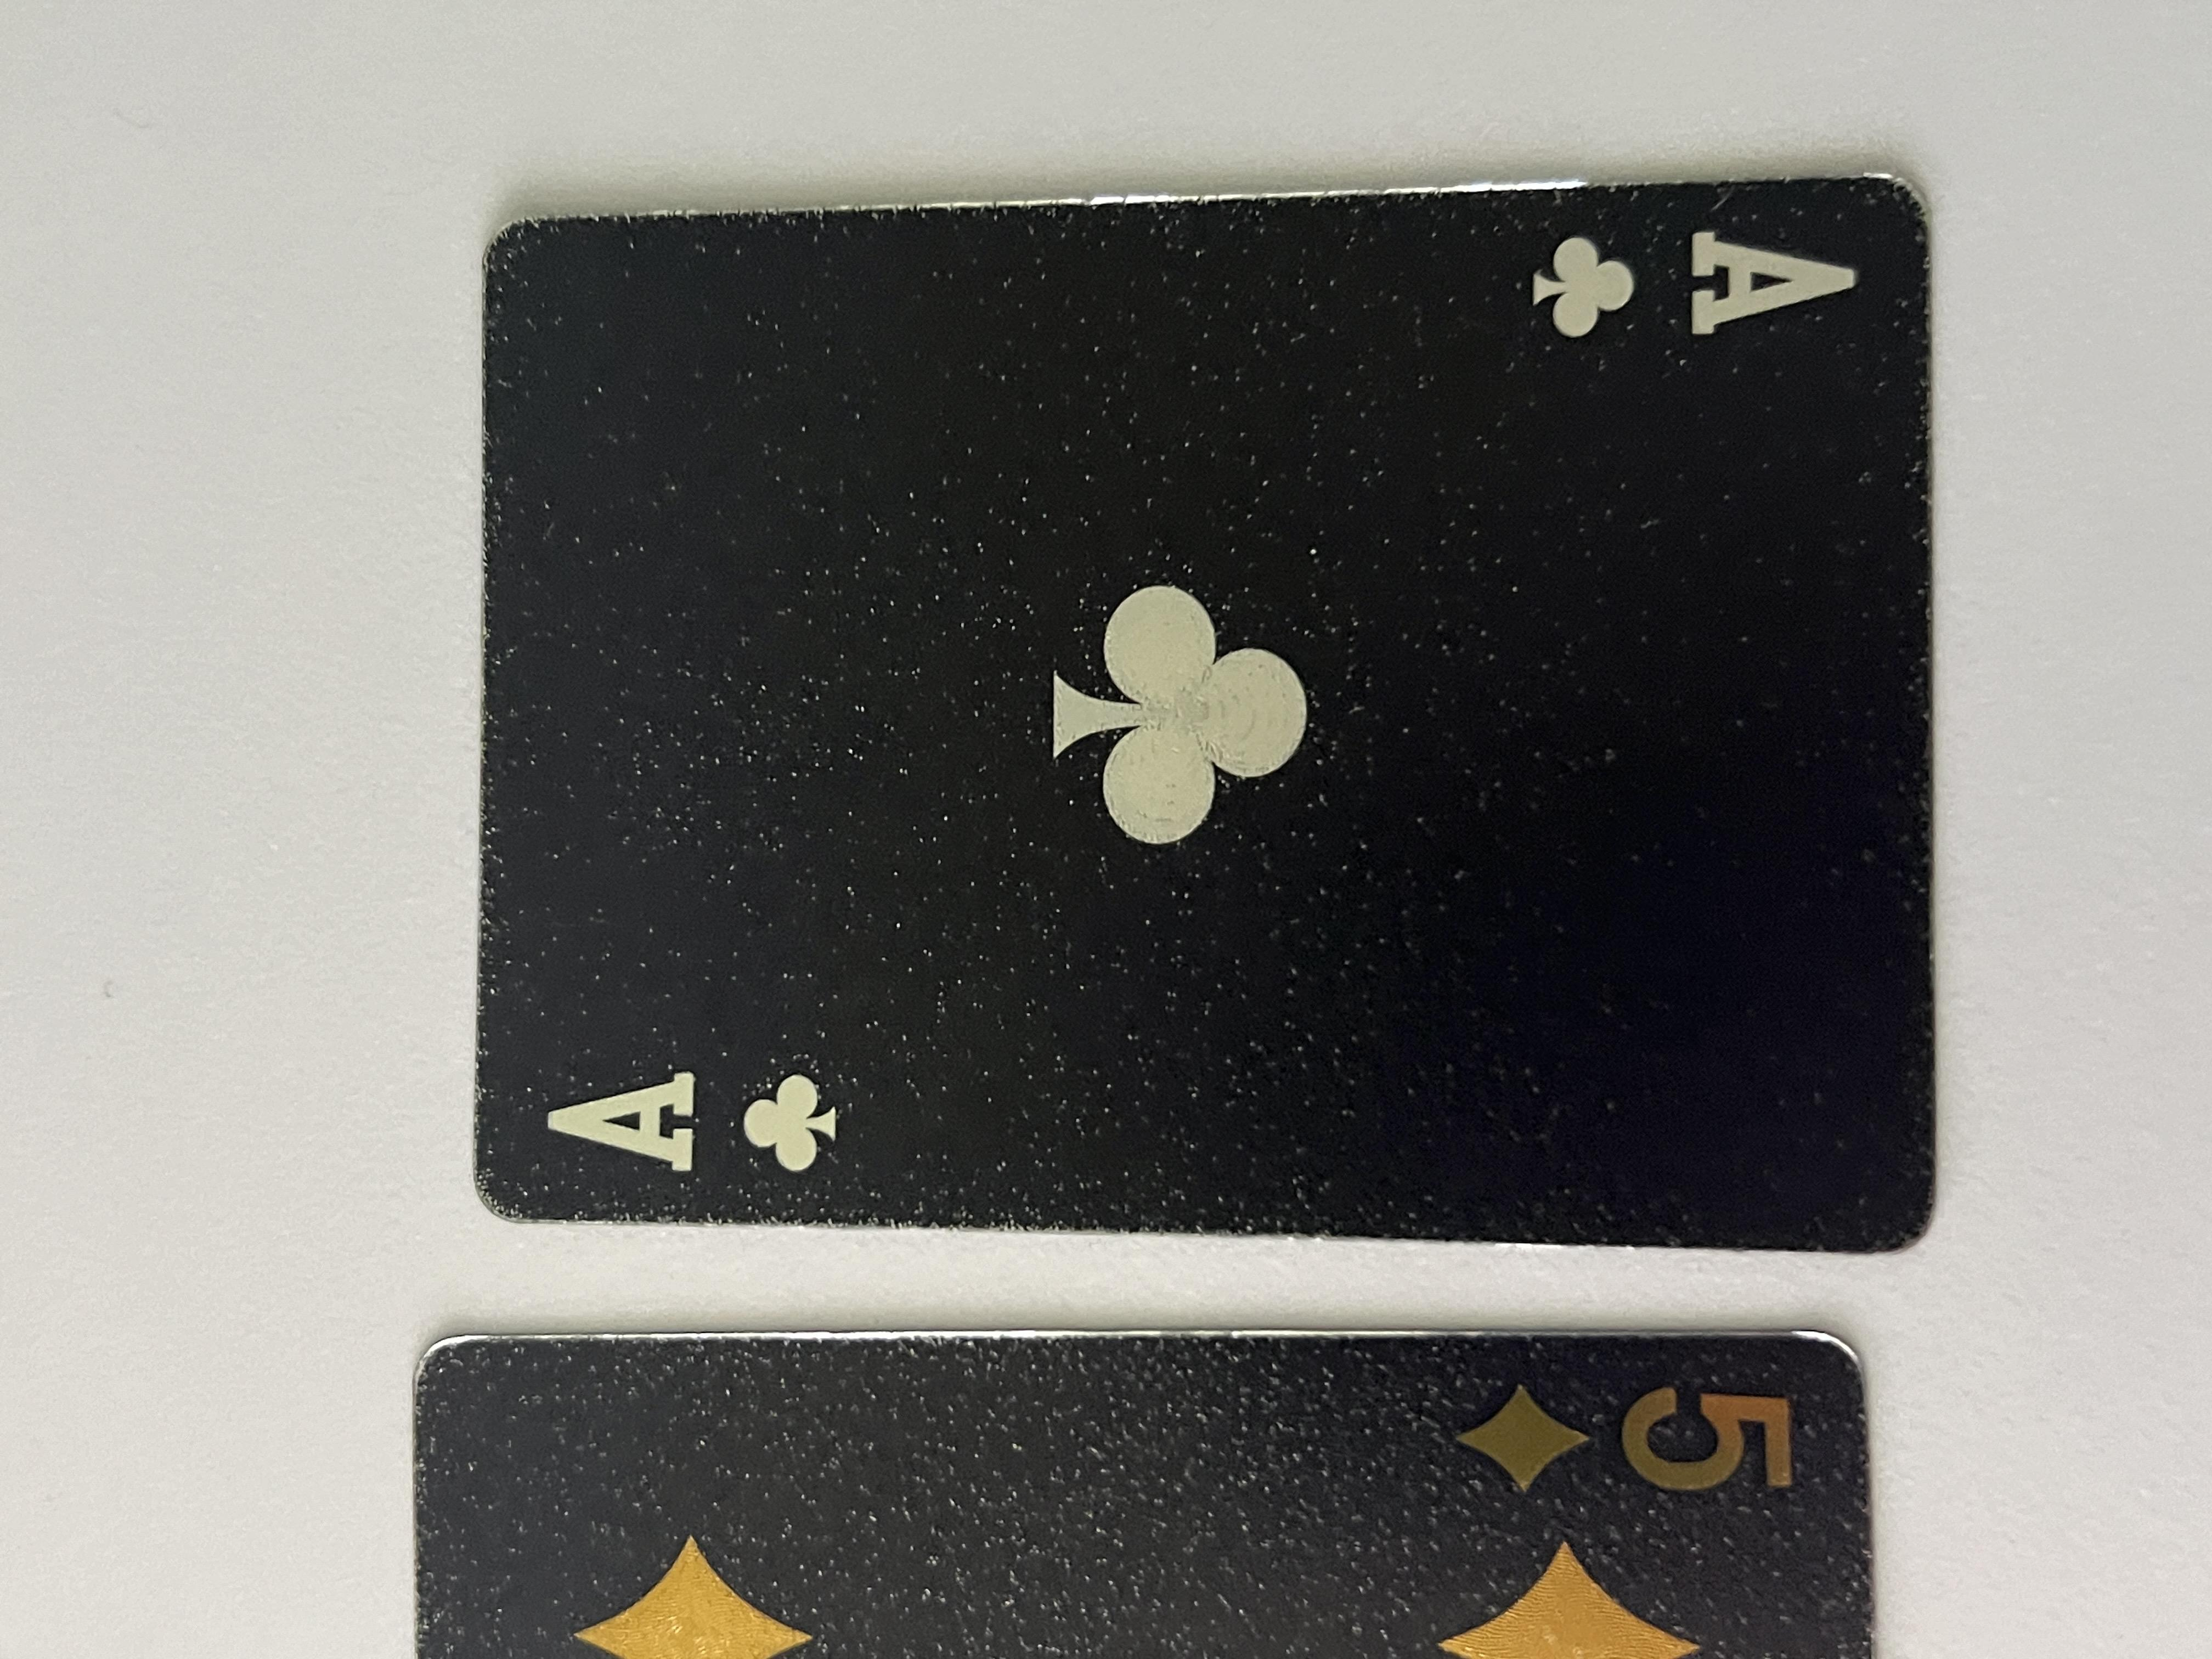5D: (186, 1089, 413, 1377)
QC: (1716, 1126, 1952, 1405), (611, 397, 822, 647)
